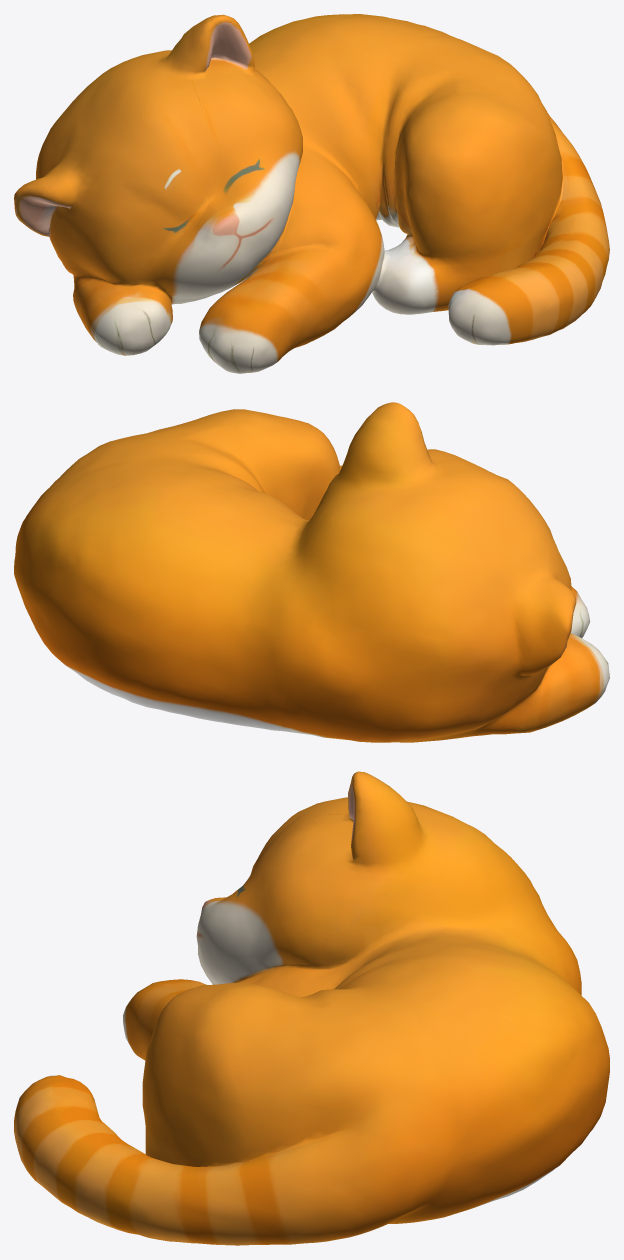
The model's file is marmalade_cat.glb.
3 renders of one model, top to bottom at view 1: azimuth 30°, elevation 25°; view 2: azimuth 150°, elevation 25°; view 3: azimuth 270°, elevation 25°, orthographic. The views are drawn at different scales.
Bounding box in the file's own units: 1.91 × 0.9667 × 1.65.
Materials: 1 (1 with a texture image).
